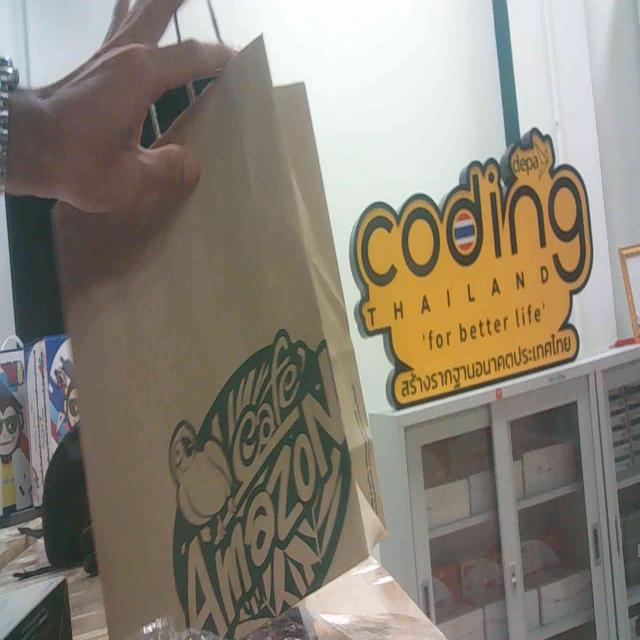bag: (86, 135, 362, 639)
